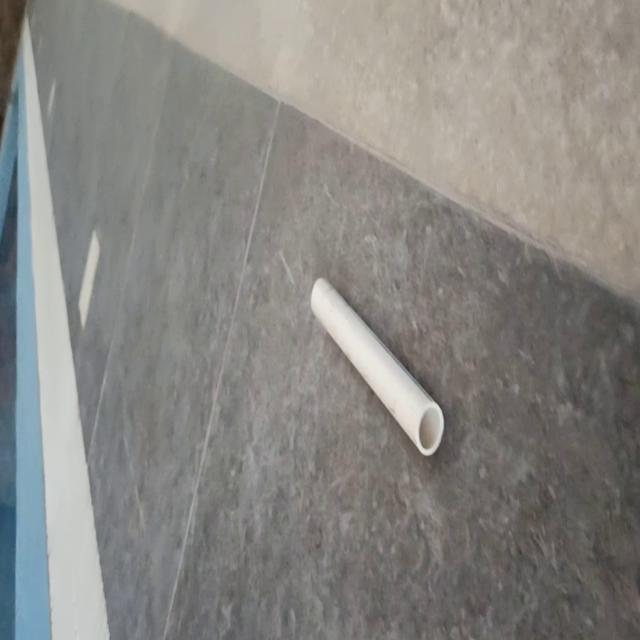Cube: (309, 274, 445, 458)
